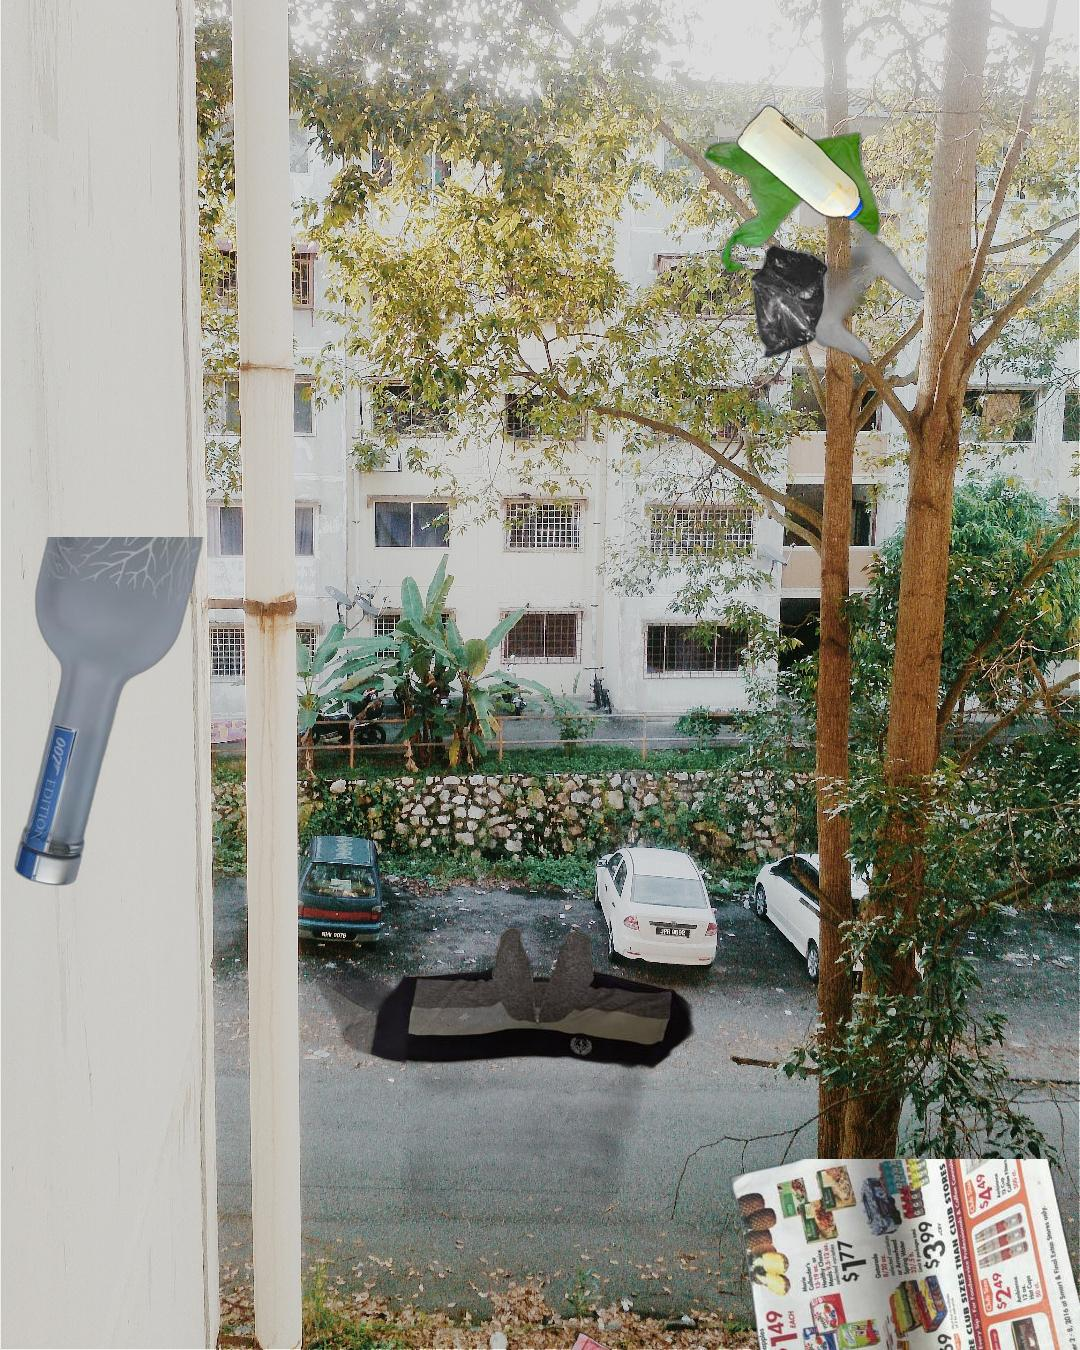biological: (1076, 456, 1080, 635)
clothes: (313, 879, 793, 1274)
glass: (10, 537, 207, 889)
paper: (727, 1159, 1080, 1350)
plastic-bag: (703, 130, 926, 375), (559, 1331, 695, 1350)
plastic-bottles: (732, 83, 1047, 227)
